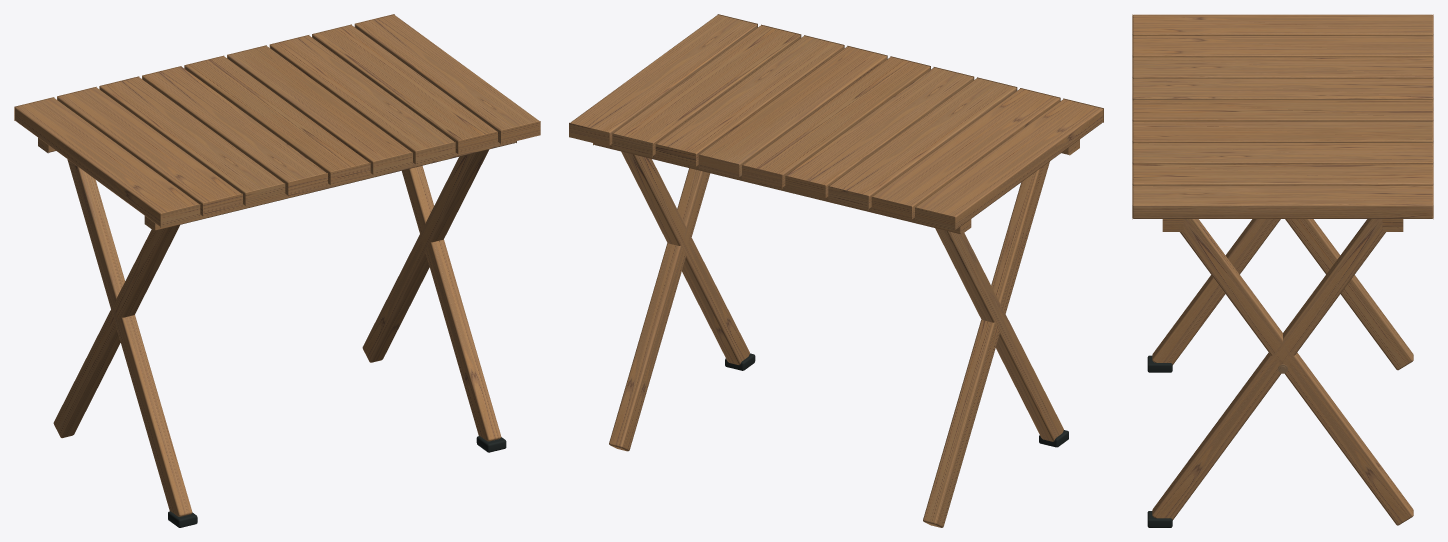
Rendered from outdoor-folding-balcony-table.glb.
3 views of the same model, side by side, from view 1: azimuth 30°, elevation 25°; view 2: azimuth 150°, elevation 25°; view 3: azimuth 270°, elevation 25° (orthographic). The views are drawn at different scales.
Parts seen in each view (by area): view 1: catalog_surface_UVMap, catalog_surface_RealismUV; view 2: catalog_surface_UVMap; view 3: catalog_surface_UVMap, catalog_surface_RealismUV.
Part boxes in pixels (x1,y1,x2,y2): catalog_surface_UVMap: (14,14,540,516); catalog_surface_RealismUV: (168,436,506,527); catalog_surface_UVMap: (569,14,1103,527); catalog_surface_UVMap: (1132,14,1433,525); catalog_surface_RealismUV: (1147,355,1287,527).
Bounding box in the file's own units: 0.9 × 0.74 × 0.6.
Materials: 6 (3 with a texture image).
